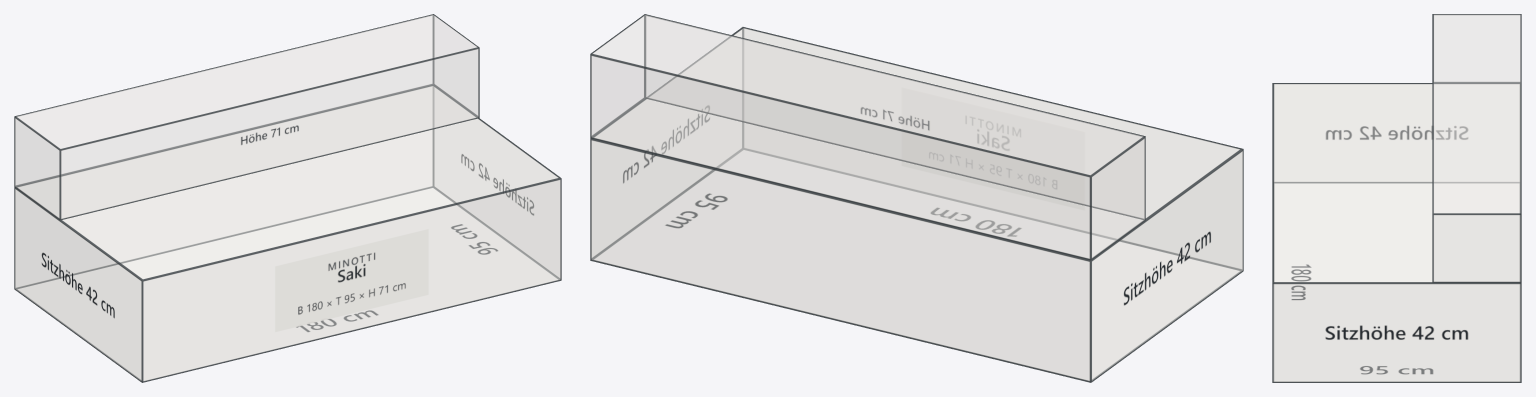
The model's file is produkt-saki-variant--corner-sofa-180x95-cm.glb.
3 renders of one model, left to right at view 1: azimuth 30°, elevation 25°; view 2: azimuth 150°, elevation 25°; view 3: azimuth 270°, elevation 25°, orthographic. The views are drawn at different scales.
Parts seen in each view (by area): view 1: sitz_oben, sitz_vorne, Grundflaeche, sitz_hinten, ruecken_vorne, ruecken_hinten, ruecken_oben, sitz_links, sitz_rechts, ruecken_links, ruecken_rechts; view 2: Grundflaeche, sitz_oben, sitz_hinten, ruecken_hinten, ruecken_vorne, sitz_vorne, ruecken_oben, sitz_links, sitz_rechts, ruecken_links, ruecken_rechts; view 3: sitz_oben, Grundflaeche, sitz_rechts, sitz_links, ruecken_oben, ruecken_rechts, ruecken_links.
Boxes of the visible parts, <box> form: sitz_oben: <box>16,85,560,280</box>; sitz_vorne: <box>142,178,561,382</box>; Grundflaeche: <box>16,186,559,380</box>; sitz_hinten: <box>15,86,433,288</box>; ruecken_vorne: <box>60,47,479,220</box>; ruecken_hinten: <box>15,15,433,186</box>; ruecken_oben: <box>15,14,478,149</box>; sitz_links: <box>14,187,142,382</box>; sitz_rechts: <box>433,87,560,278</box>; ruecken_links: <box>14,116,59,219</box>; ruecken_rechts: <box>433,15,478,116</box>; Grundflaeche: <box>592,149,1242,380</box>; sitz_oben: <box>592,27,1242,258</box>; sitz_hinten: <box>590,138,1090,382</box>; ruecken_hinten: <box>590,54,1090,260</box>; ruecken_vorne: <box>645,15,1144,219</box>; sitz_vorne: <box>743,28,1242,270</box>; ruecken_oben: <box>590,14,1145,175</box>; sitz_links: <box>1091,149,1243,382</box>; sitz_rechts: <box>591,29,742,258</box>; ruecken_links: <box>1091,136,1145,260</box>; ruecken_rechts: <box>591,15,644,136</box>; sitz_oben: <box>1272,83,1520,282</box>; Grundflaeche: <box>1273,182,1520,381</box>; sitz_rechts: <box>1272,283,1521,382</box>; sitz_links: <box>1274,84,1519,182</box>; ruecken_oben: <box>1432,14,1521,213</box>; ruecken_rechts: <box>1432,214,1521,282</box>; ruecken_links: <box>1433,14,1520,82</box>.
Bounding box in the file's own units: 1.8 × 0.71 × 0.95.
11 materials, 11 textured.
